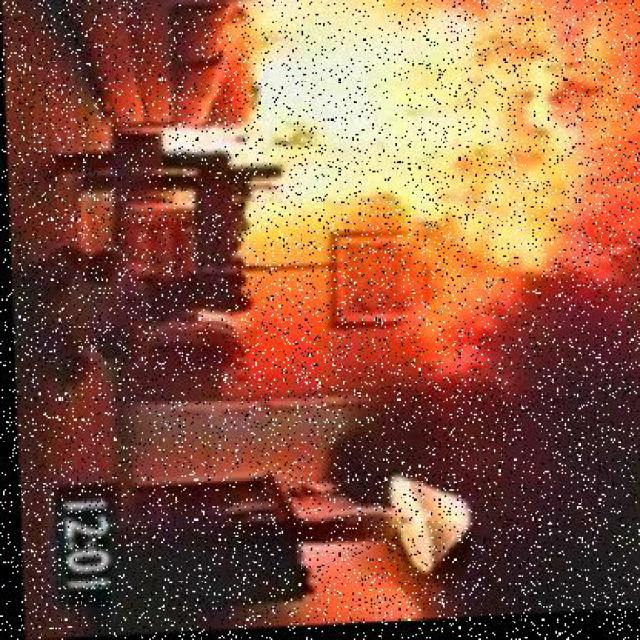fire: (195, 1, 639, 270)
